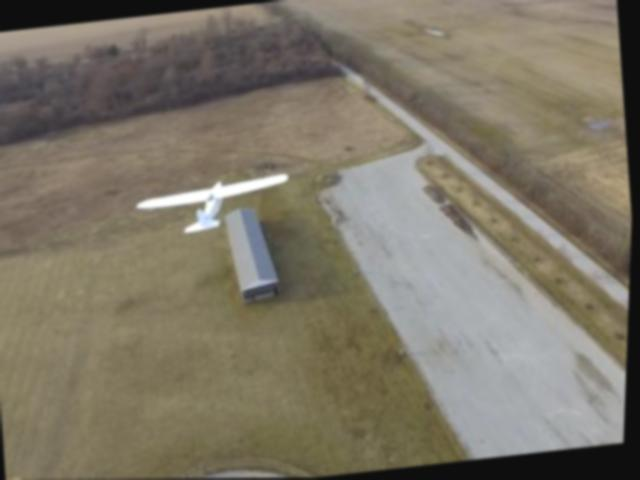uav: (120, 157, 306, 248)
